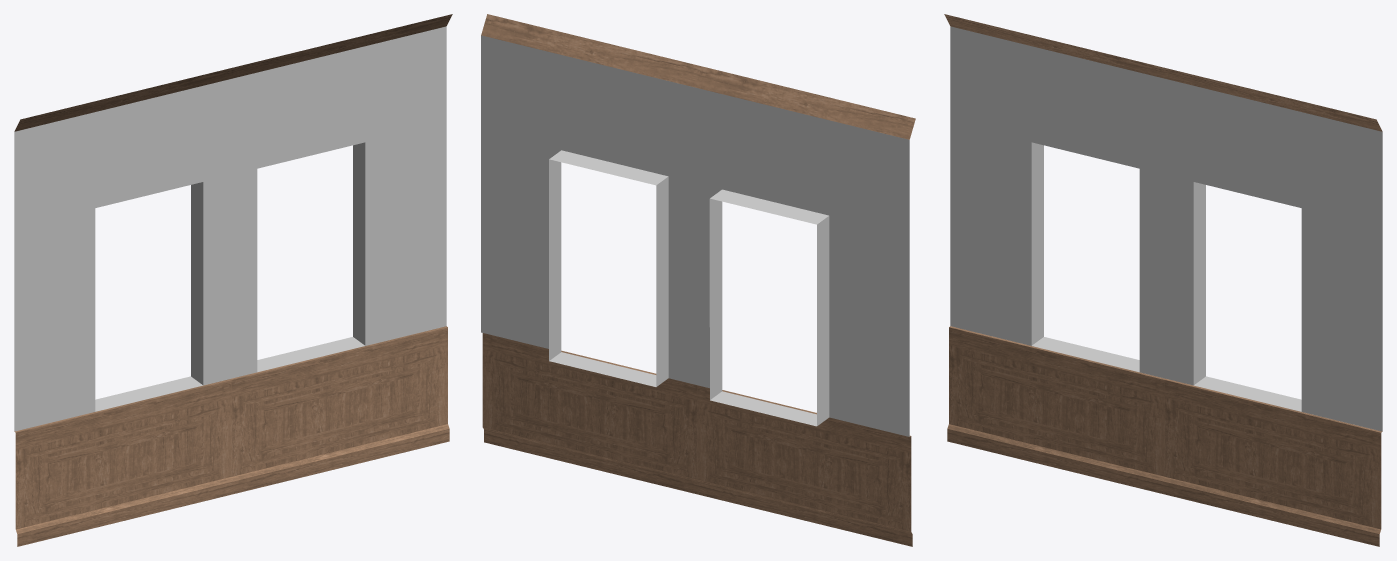
File: WallInt2Window2doubleA.fbx
3 renders of one model, left to right at view 1: azimuth 30°, elevation 25°; view 2: azimuth 150°, elevation 25°; view 3: azimuth 330°, elevation 25°, orthographic.
Parts seen in each view (by area): view 1: WallInt2Window2doubleA; view 2: WallInt2Window2doubleA; view 3: WallInt2Window2doubleA.
Boxes of the visible parts, bbox=[...] form: WallInt2Window2doubleA: bbox=[14, 14, 452, 546]; WallInt2Window2doubleA: bbox=[481, 14, 915, 546]; WallInt2Window2doubleA: bbox=[944, 14, 1382, 546].
Bounding box in the file's own units: 400 × 380 × 30.
